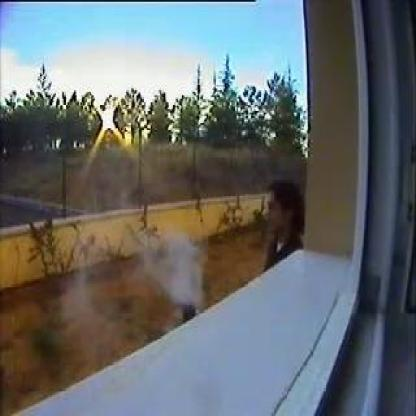-: (154, 243, 202, 300)
